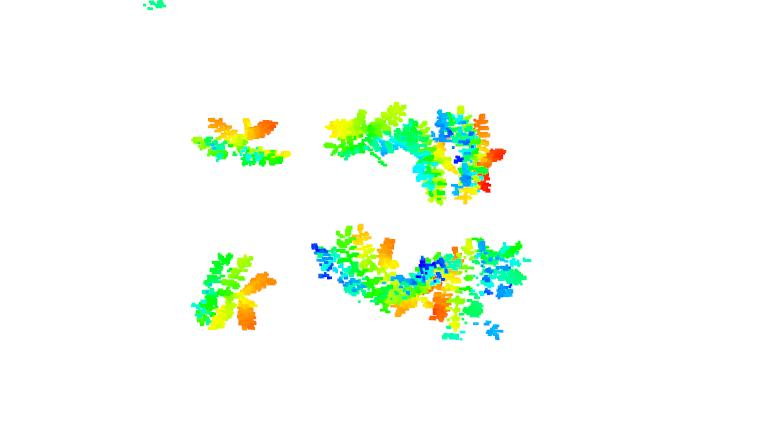chickpea: (390, 239, 472, 342), (191, 245, 276, 337), (308, 222, 394, 312), (464, 236, 533, 340), (455, 104, 514, 205), (325, 100, 406, 170), (194, 111, 290, 167), (402, 111, 457, 206)
